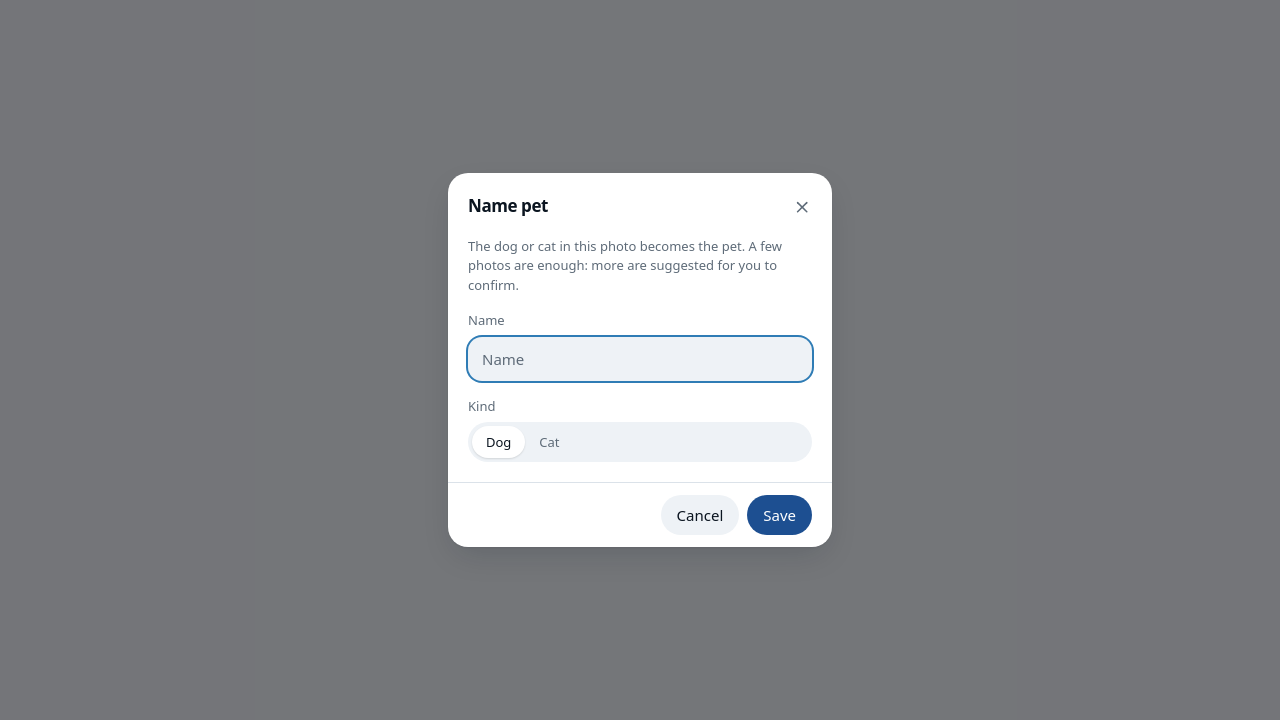
Test: NamePetSheet › needs a name before it asks the server
Click the button "Save".
click(780, 515)  # box 747,495 -> 812,535
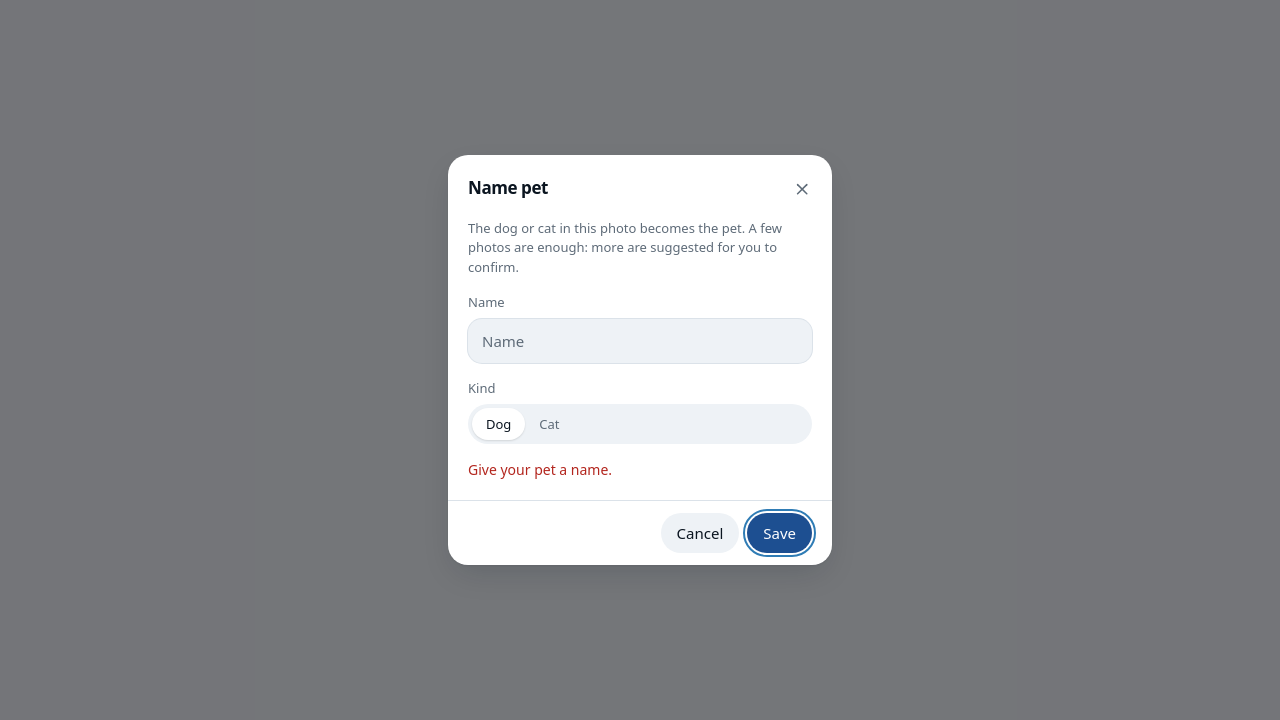
Check: the text "Give your pet a name." is shown, box 468,460 -> 612,479
